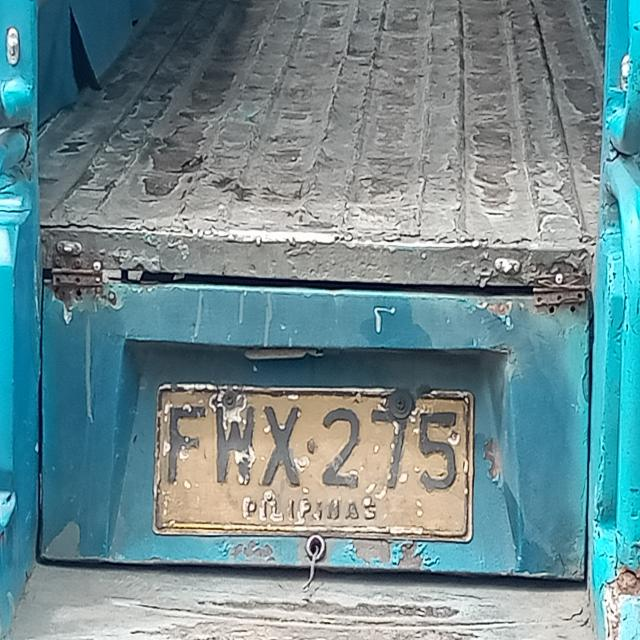plate: (148, 378, 479, 548)
